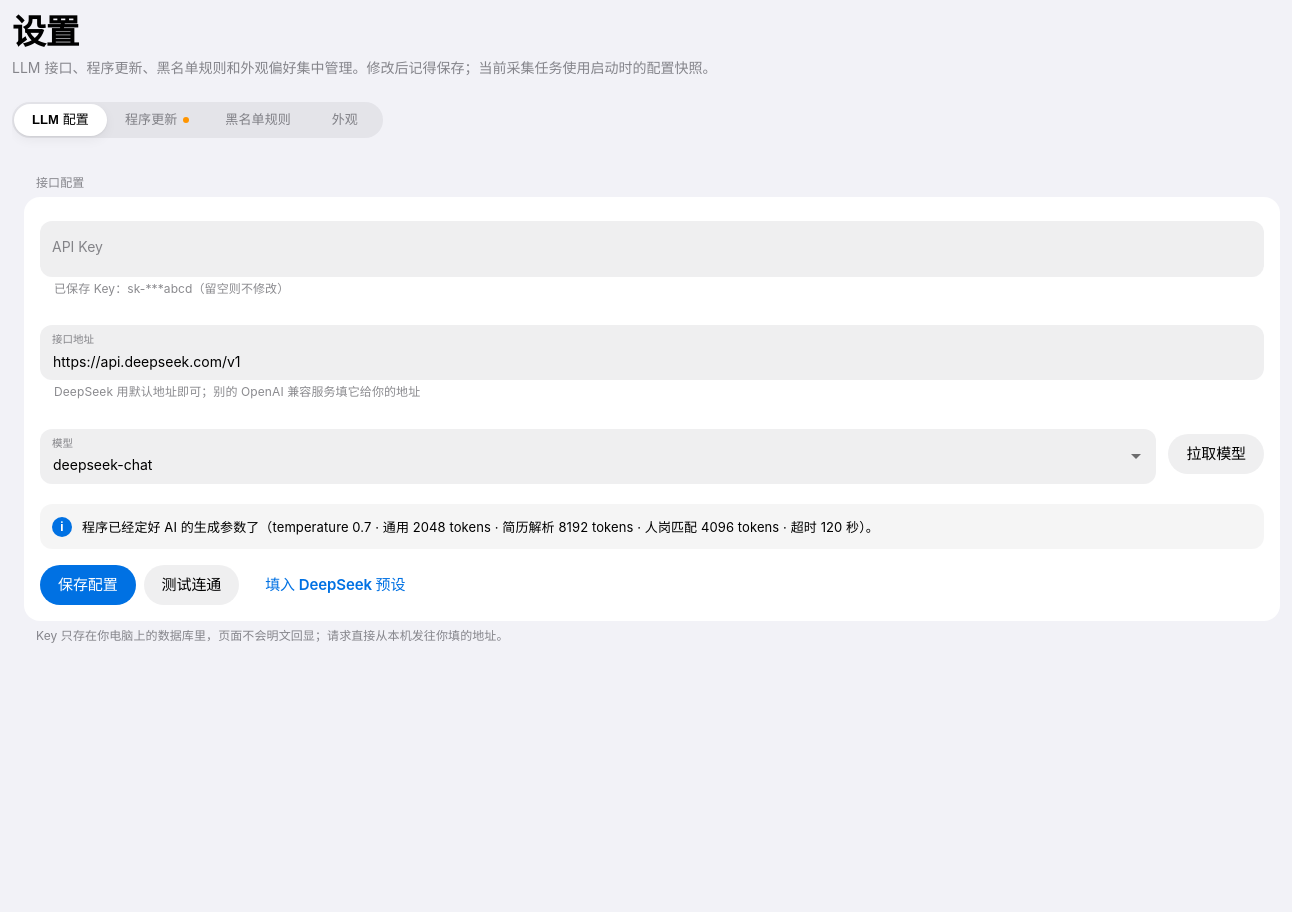
Test case: SettingsPage LLM 配置 › 「测试连通」把返回的 message 原样显示出来
Expected: the field showing "https://api.deepseek.com/v1" is shown, left=41, top=326, right=1263, bottom=379
Click the button "测试连通".
click(191, 585)  # box left=144, top=565, right=239, bottom=605
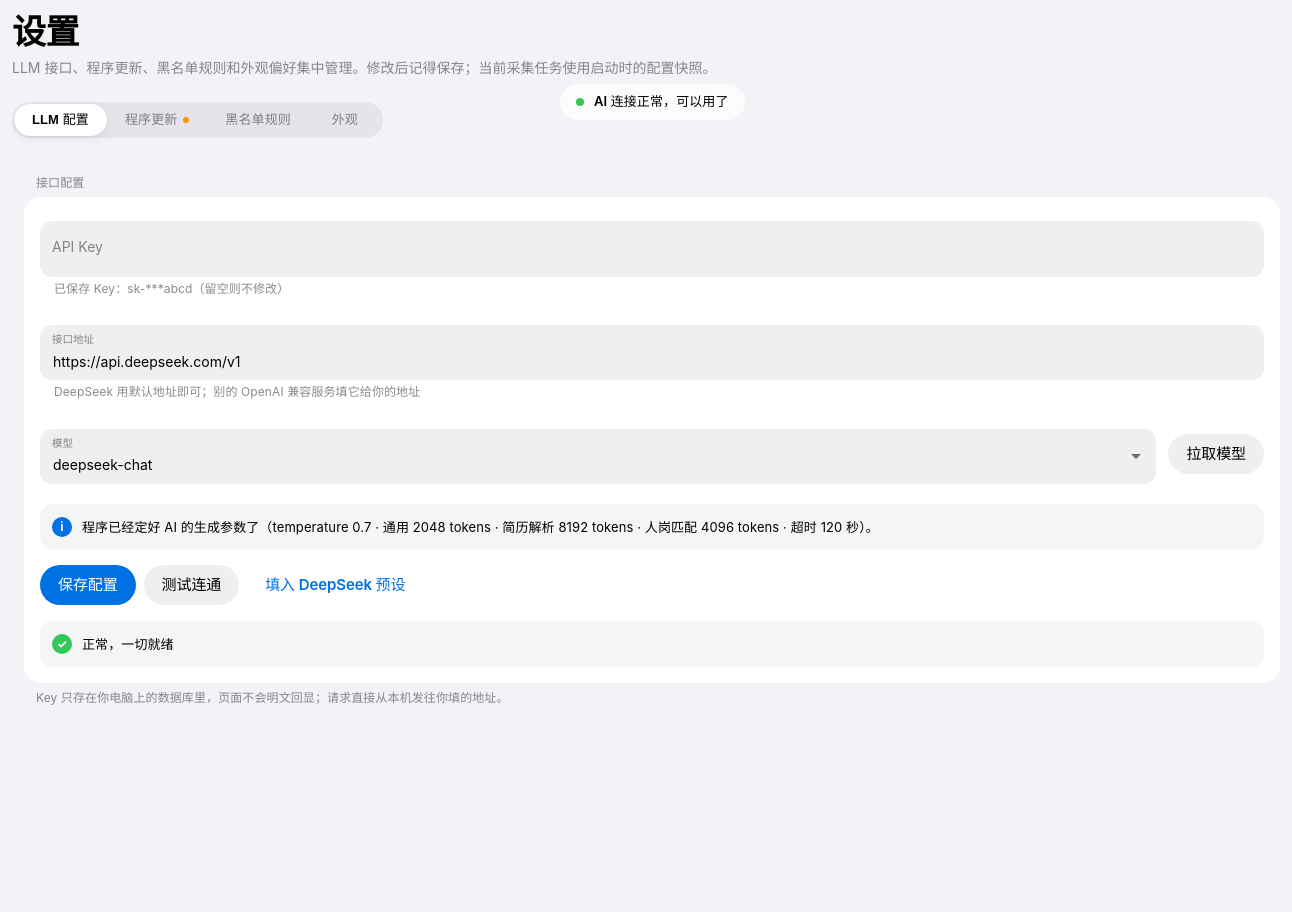
Now the text "正常，一切就绪" is shown, box left=82, top=633, right=174, bottom=655
